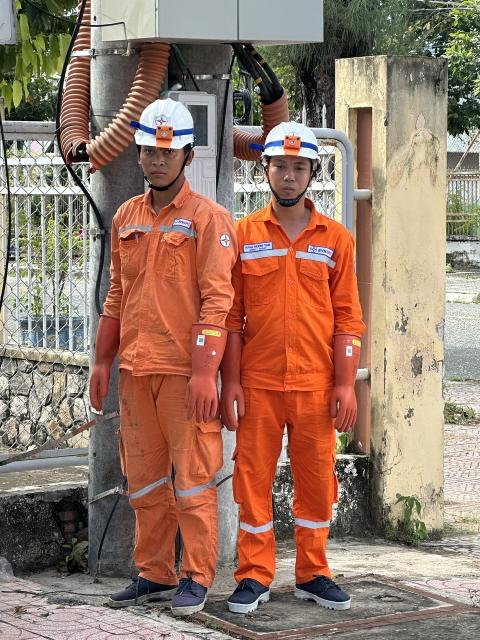gloves: (83, 309, 134, 419), (171, 318, 222, 422), (323, 323, 365, 434), (215, 323, 253, 434)
helmet: (117, 97, 206, 158), (251, 121, 330, 169)
shoes: (104, 566, 178, 613), (293, 568, 357, 614), (160, 569, 210, 624), (233, 567, 276, 618)
